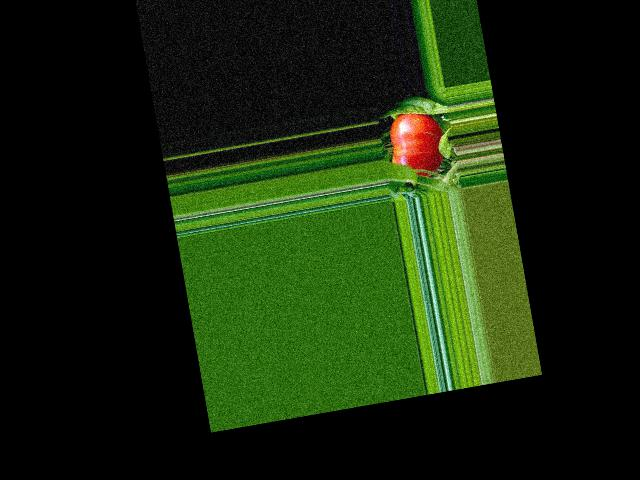tomato: (384, 107, 449, 182)
